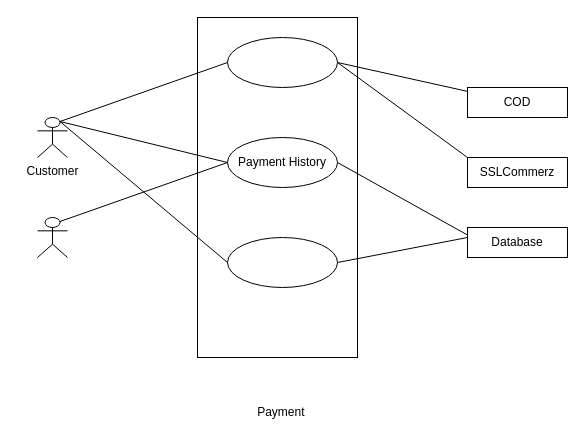
Some shapes in this 585 by 445 pixel diagram are drawn without their labels. The box of each missing label's shape, as (x1, y1, x2, y2) in pixels:
Administrator: (36, 216, 68, 258)
Payment Method: (226, 36, 338, 88)
Process Payment: (226, 236, 338, 288)
